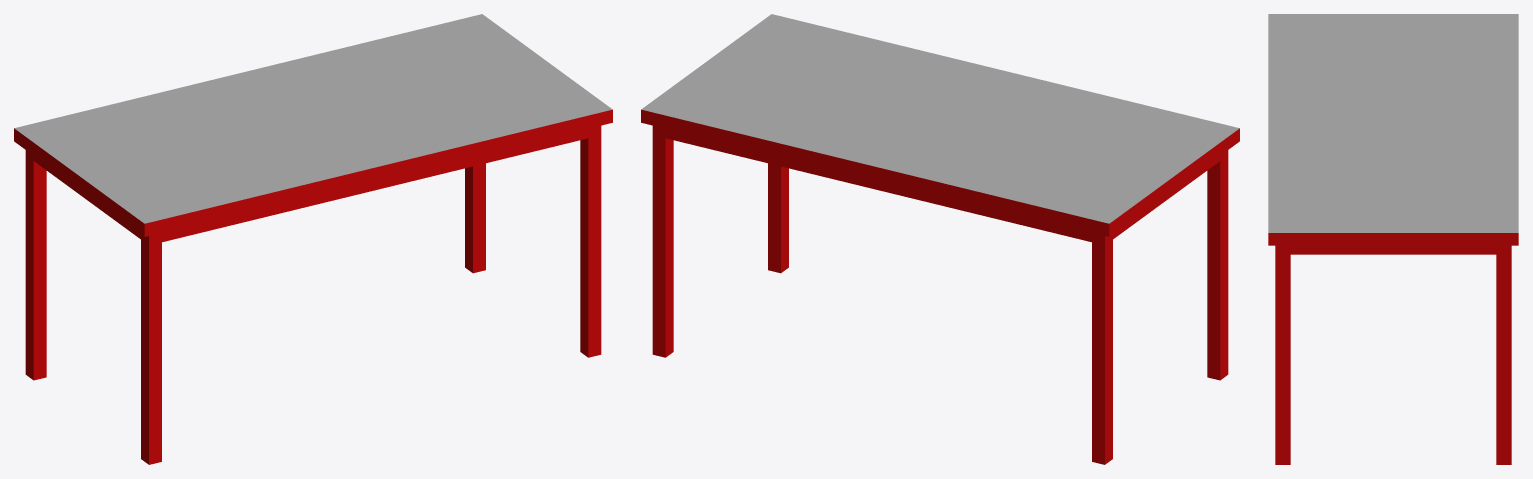
File: Mesa.fbx
The picture shows the model from 3 angles, left to right: view 1: azimuth 30°, elevation 25°; view 2: azimuth 150°, elevation 25°; view 3: azimuth 270°, elevation 25°; orthographic projection. The views are drawn at different scales.
Visible parts, largest first — view 1: MESA; view 2: MESA; view 3: MESA.
Part boxes in pixels (left/top/right/bottom): MESA: left=14, top=14, right=612, bottom=464; MESA: left=641, top=14, right=1239, bottom=464; MESA: left=1268, top=14, right=1518, bottom=464.
Size of the model in its own units: 72.32 by 36.27 by 34.93.
